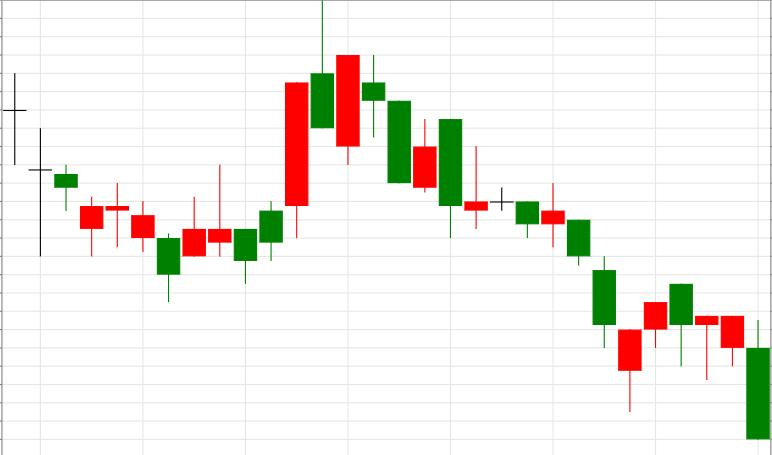hammer_rise: (439, 119, 642, 412)
shooting_star_fall: (157, 0, 333, 301)
